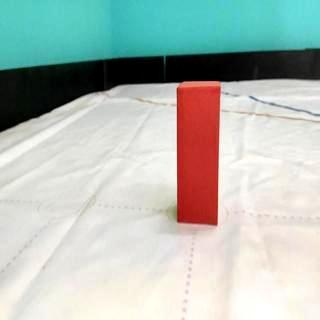redbox: (177, 82, 219, 226)
